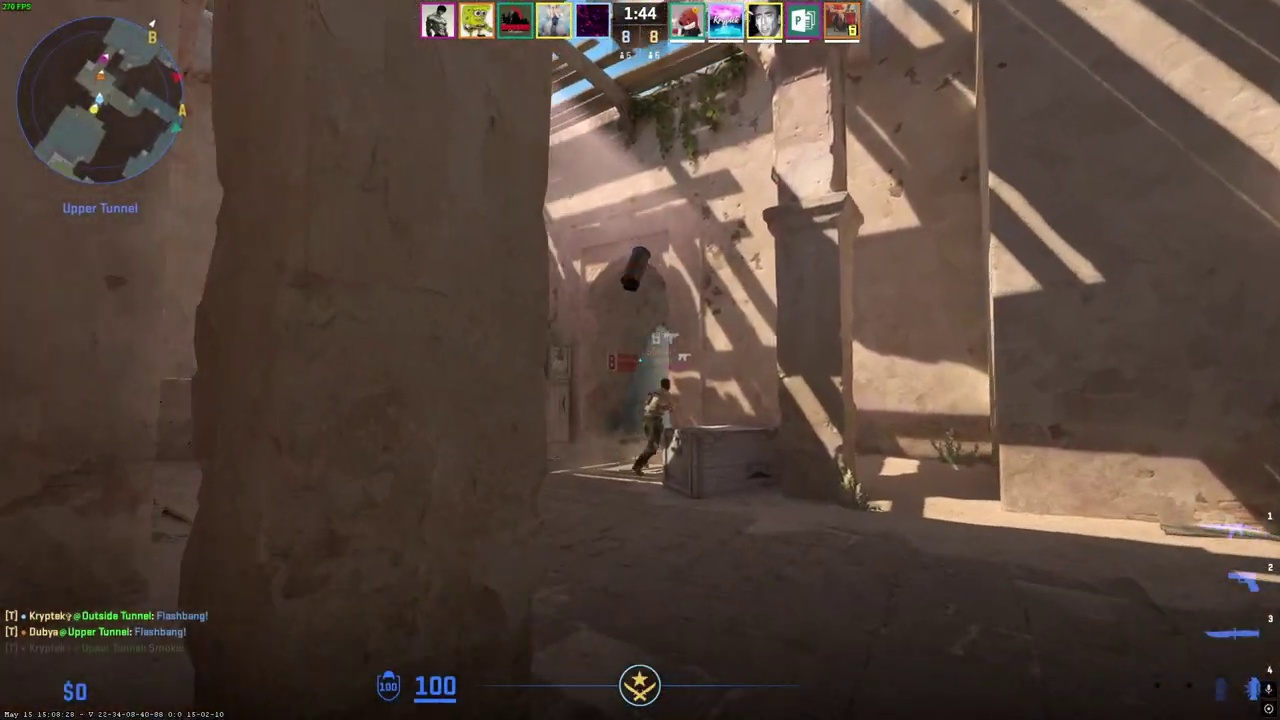Terrorist: (634, 378, 674, 476)
